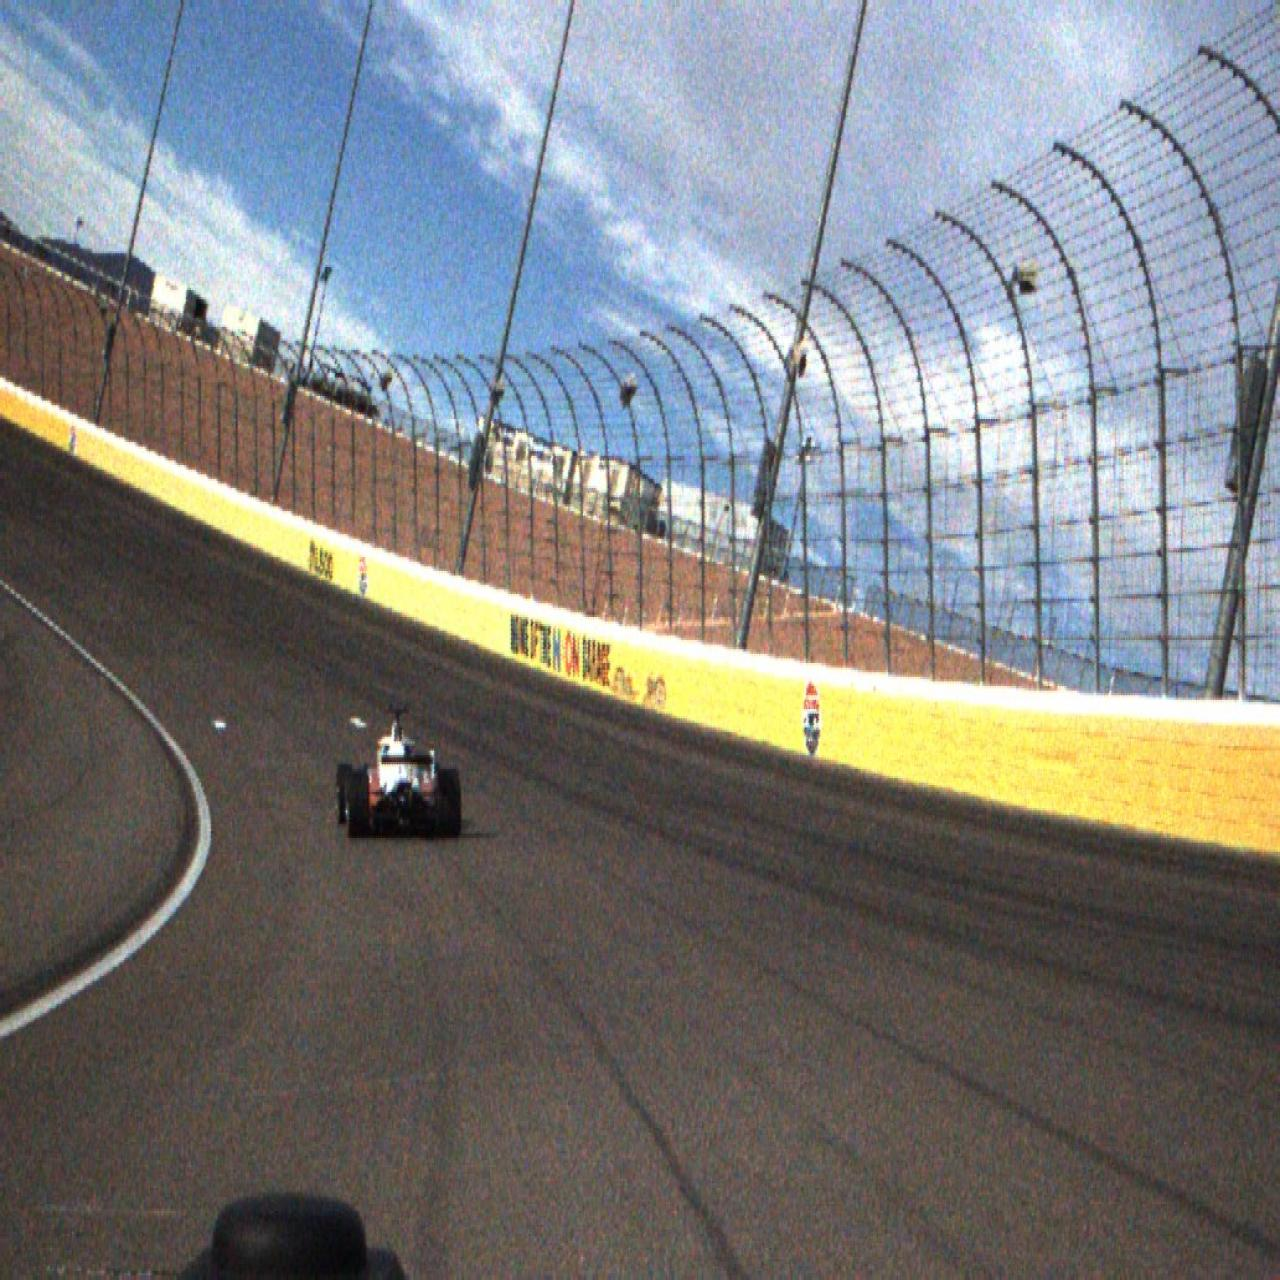AV: (336, 704, 461, 837)
Wheel: (347, 771, 369, 837), (441, 768, 461, 838), (336, 763, 354, 824)
